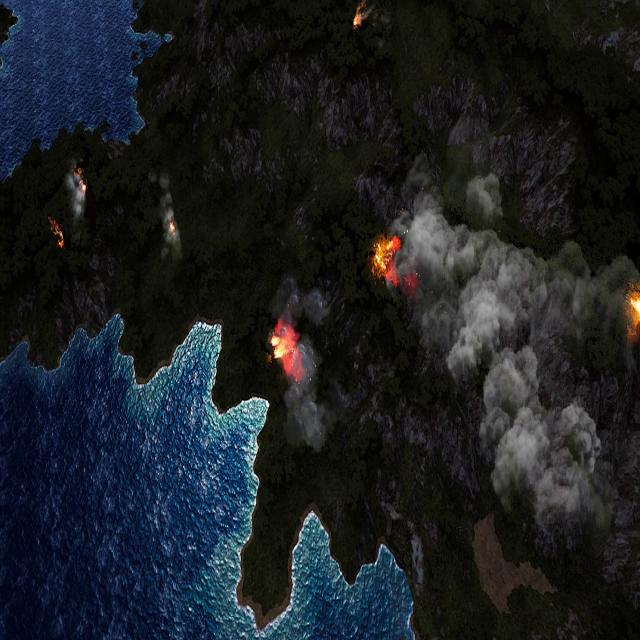fire: (268, 323, 302, 376), (372, 234, 402, 290), (626, 288, 640, 338), (48, 216, 64, 247), (352, 0, 366, 30), (76, 171, 88, 196), (168, 216, 176, 239)
smoke: (401, 146, 630, 546), (270, 283, 348, 456), (155, 171, 180, 261), (66, 170, 88, 223)
